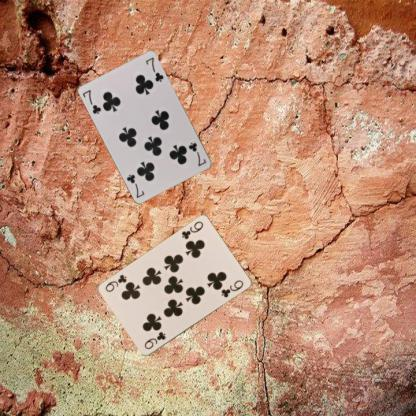7c: (80, 87, 103, 116), (186, 140, 207, 167)
9c: (178, 219, 204, 241), (142, 329, 167, 351)
